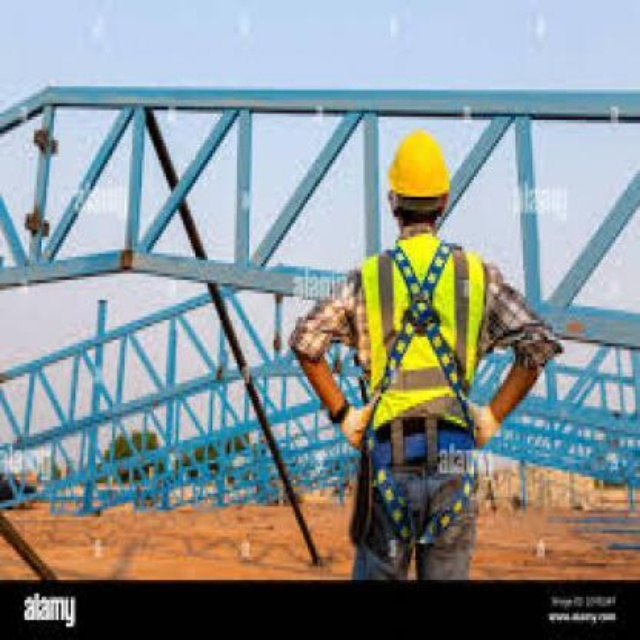Arnes_seguridad: (362, 240, 480, 549)
